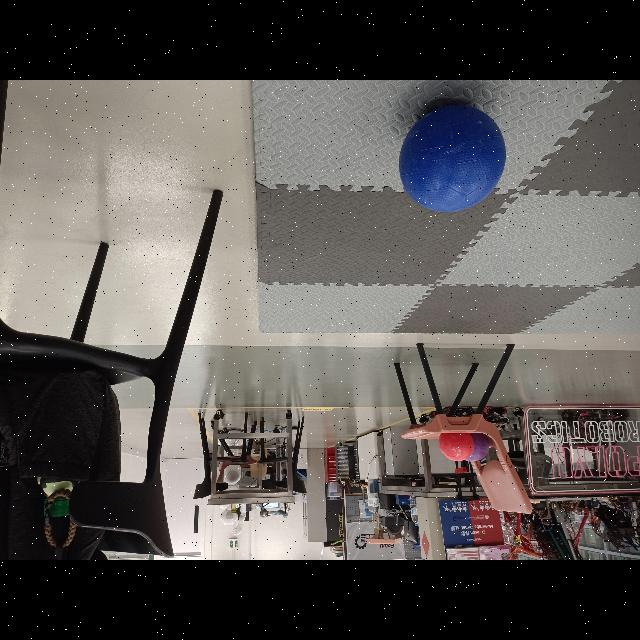B: (399, 104, 507, 212)
P: (464, 432, 488, 462)
R: (438, 431, 474, 461)
